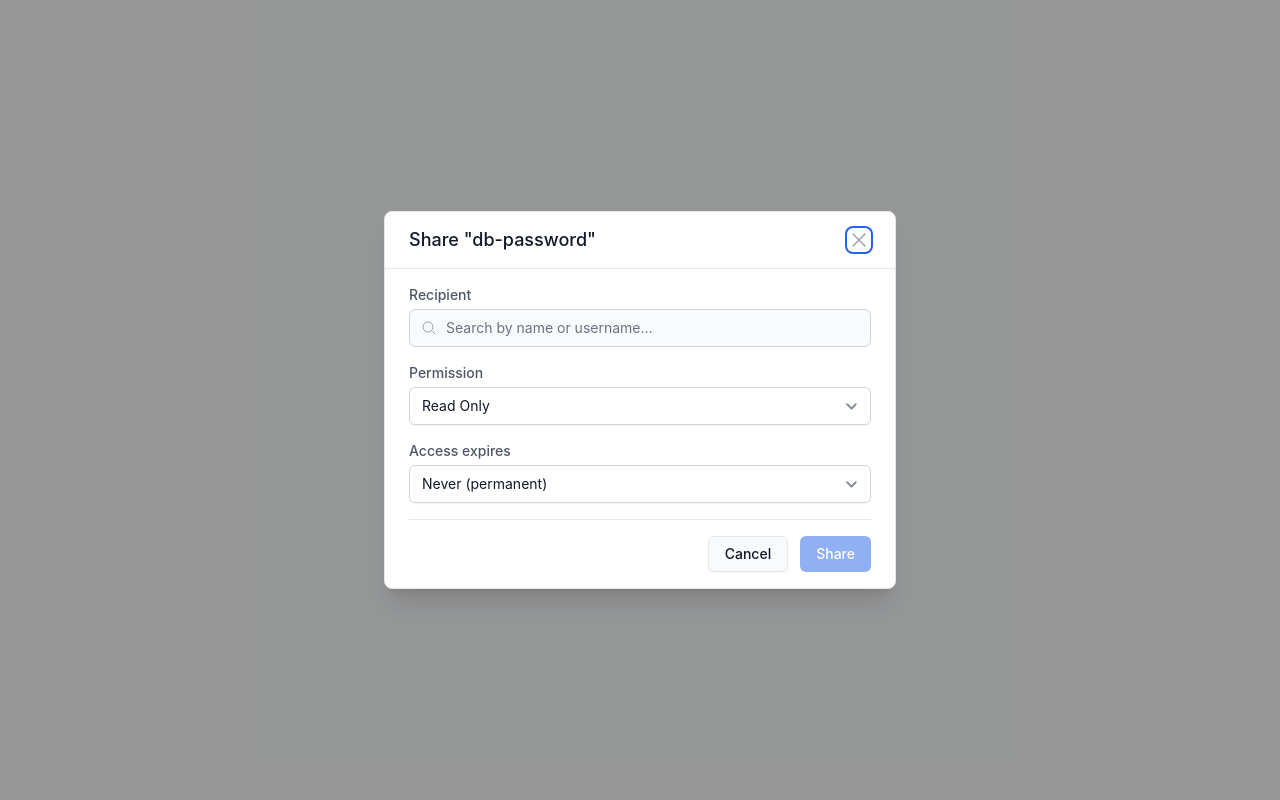
Test: ShareSecretModal recipient search › falls back to username when a matched user has no display name
Type "nod" into the field with placeholder "Search by name or username…" at x=640, y=328, box [409,309,871,347]
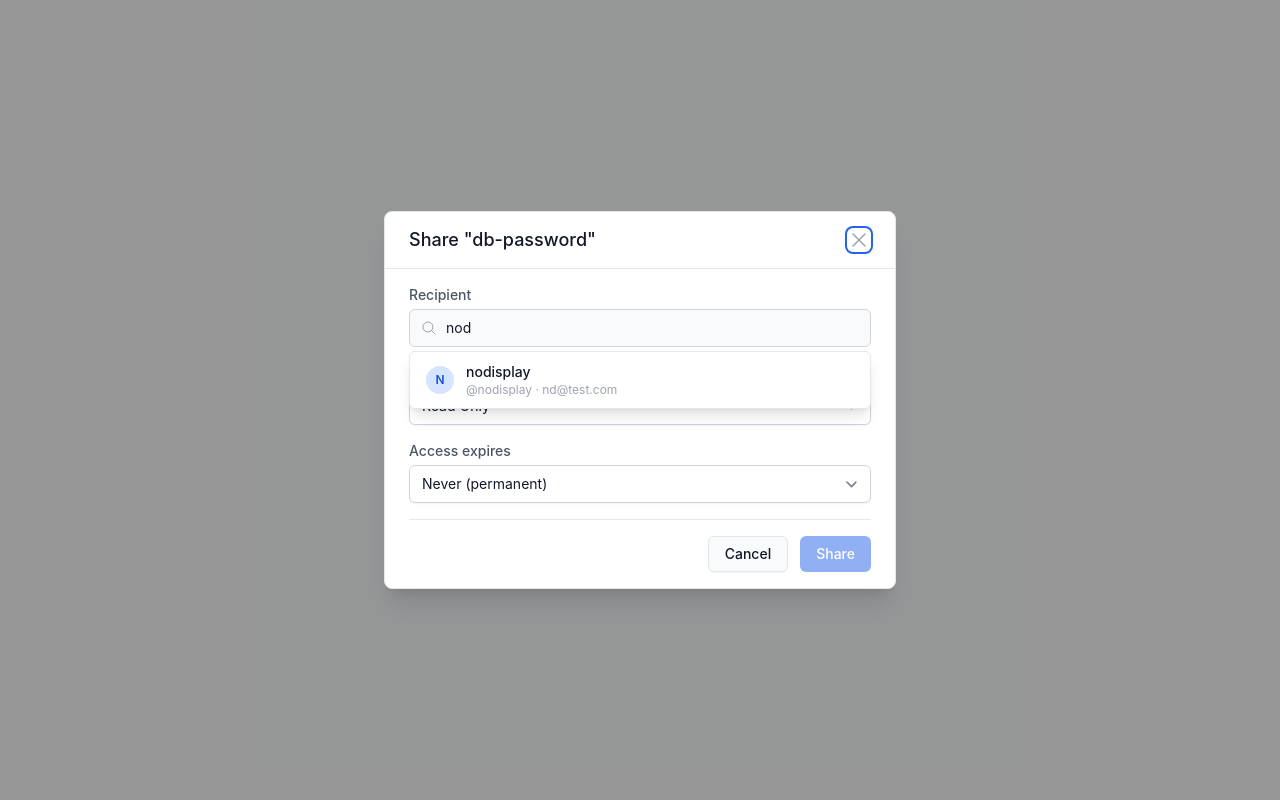
Click the text "nodisplay" at x=498, y=372, box [466,363,531,380]
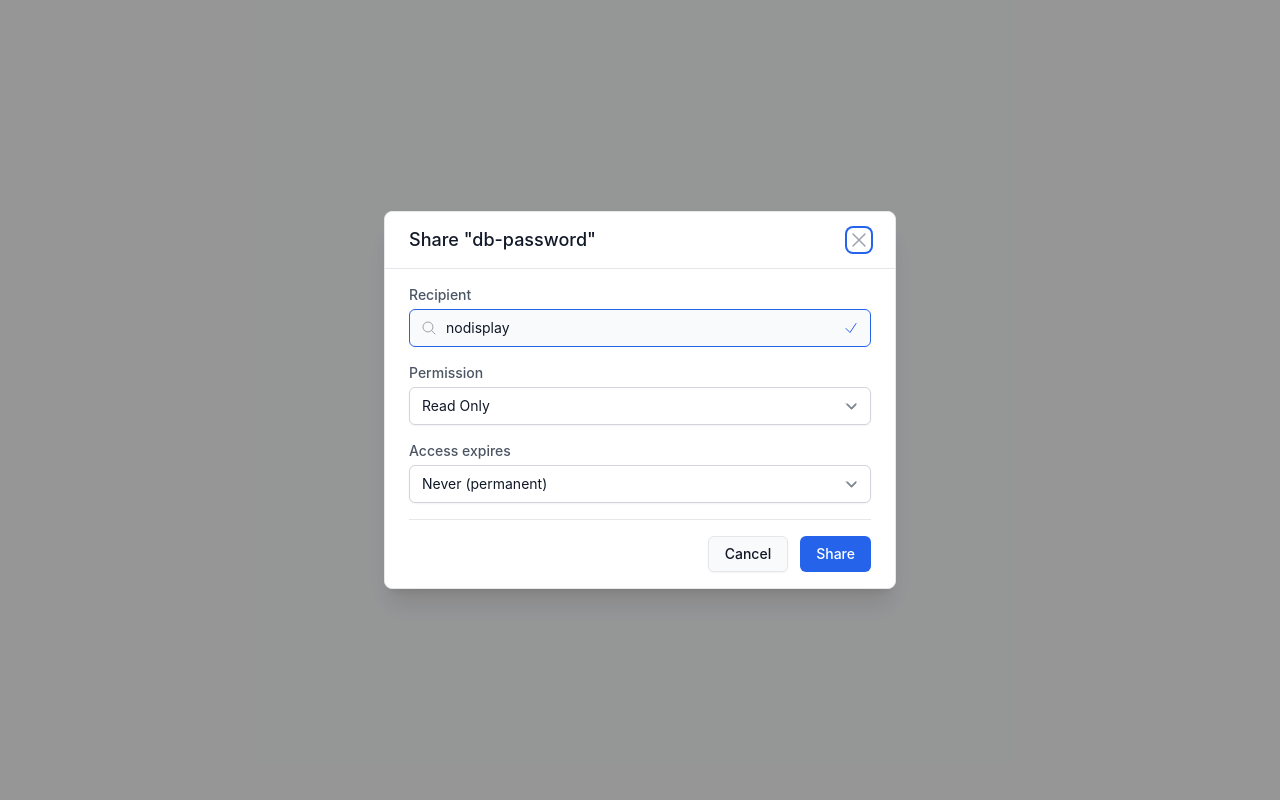
expect the field with placeholder "Search by name or username…" holds "nodisplay": met, box [409,309,871,347]
